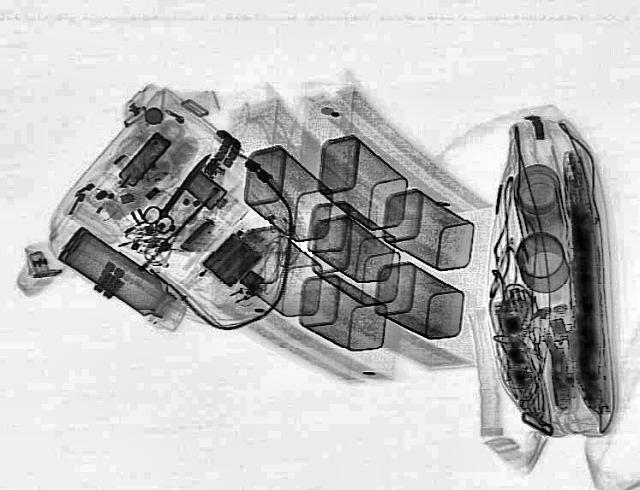Scissors: (134, 148, 226, 234)
